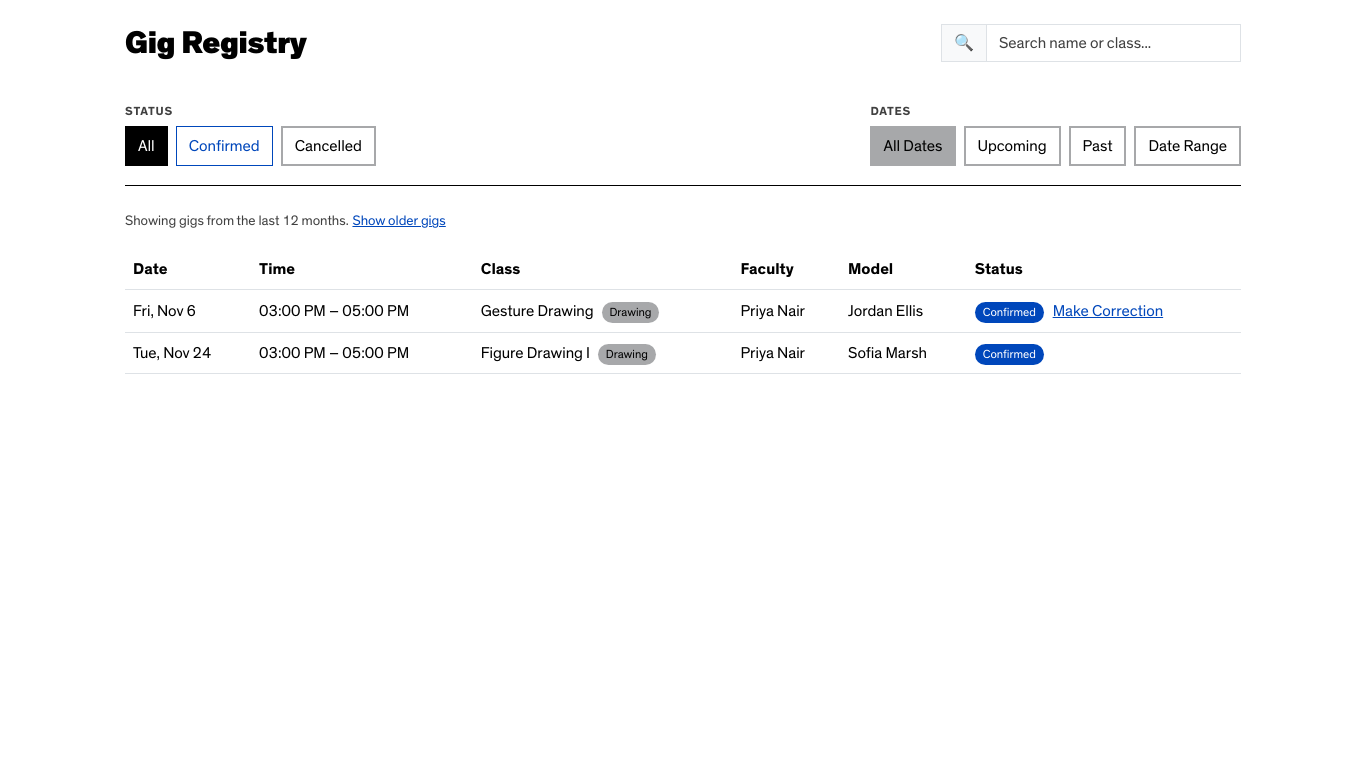
Test: AllGigs (Gig Registry) › correcting a past gig › opens the same Correct the record window as Requests
Click the button with aria-label "Make Correction for Jordan Ellis on " at (1108, 311), box [1052,298,1164,324]
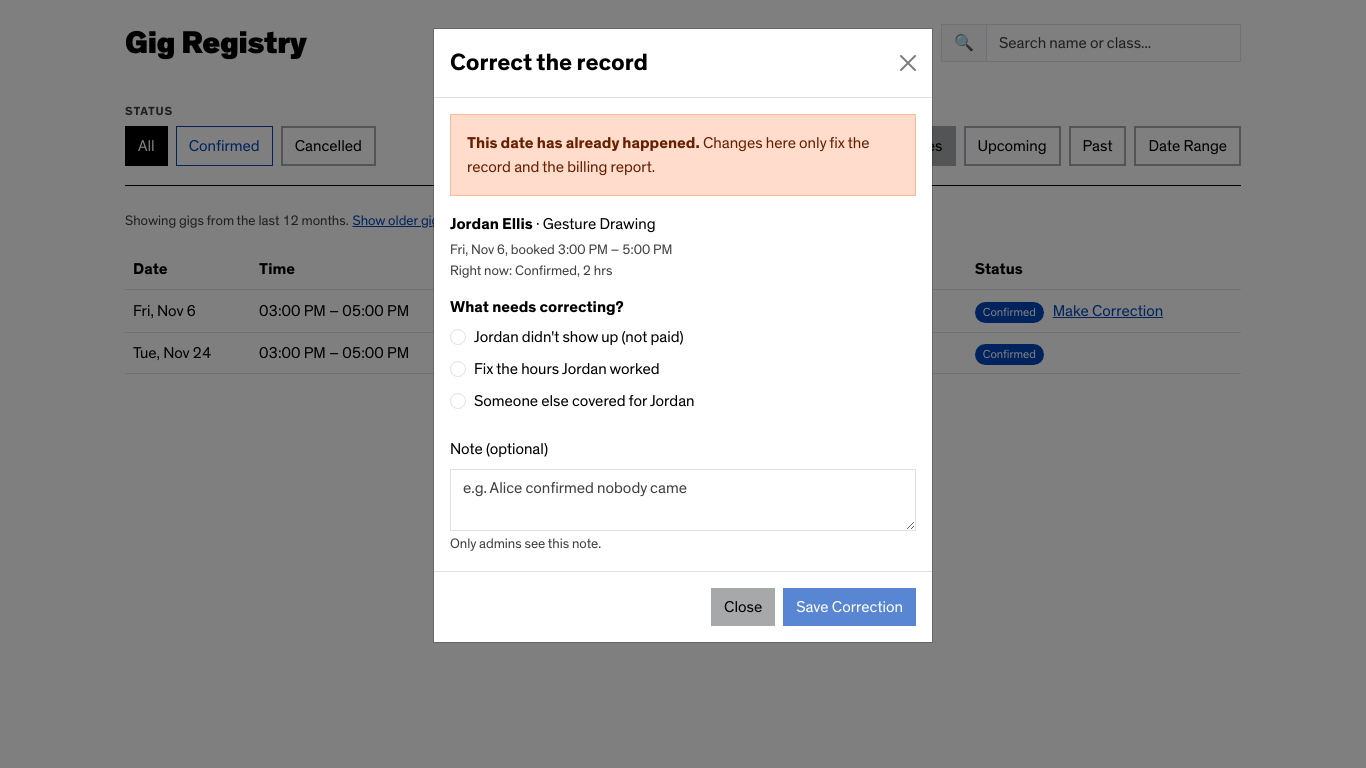
Expected: the dialog "Correct the record" shows "Gesture Drawing", [543,216,655,232]
Expected: the dialog "Correct the record" shows "Jordan Ellis", [450,216,533,232]
